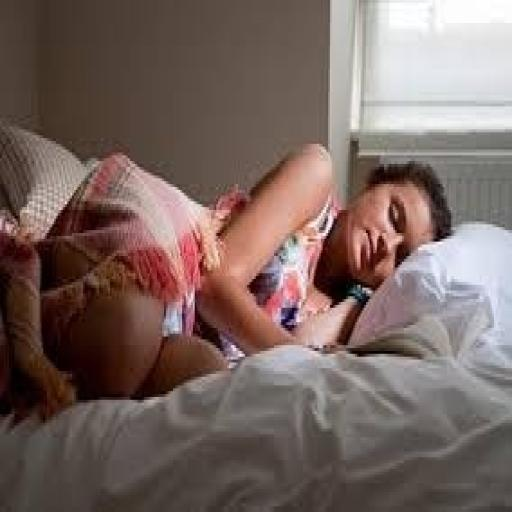sleeping: (0, 120, 454, 405)
